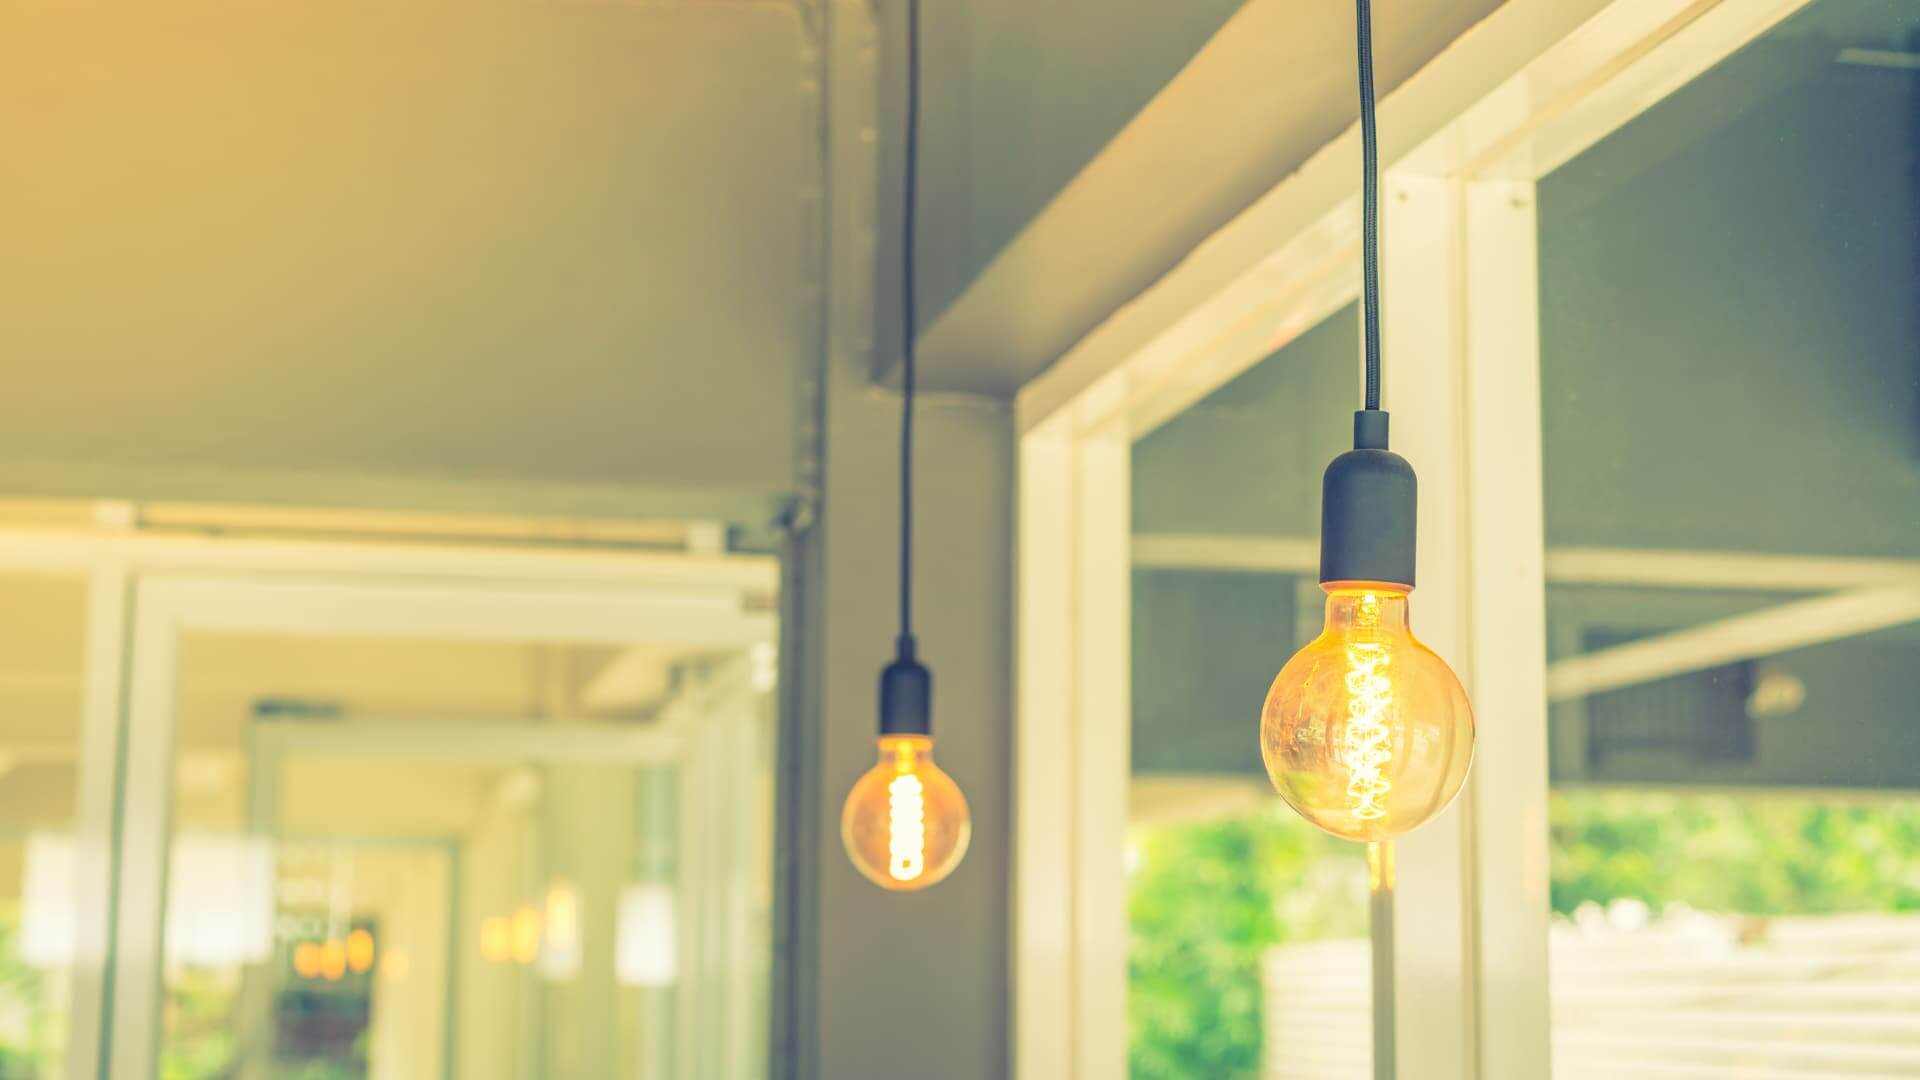bulb: (1247, 524, 1487, 876), (804, 695, 1054, 893)
